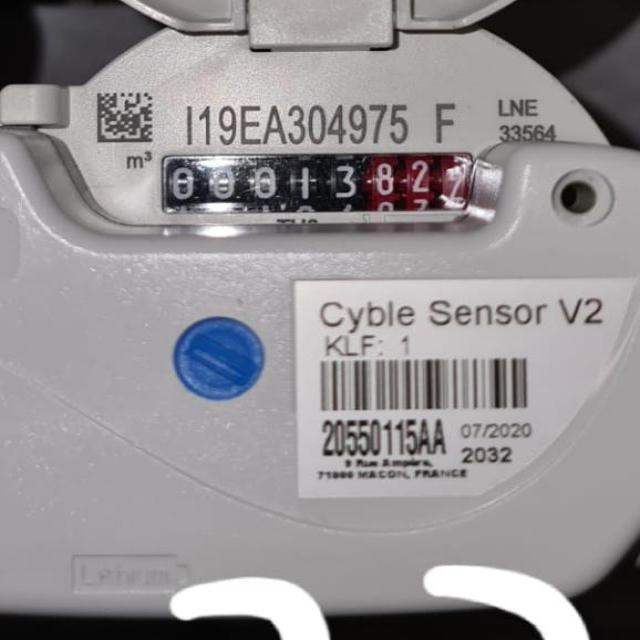gaz_meter: (12, 22, 640, 462)
indication: (162, 152, 472, 214)
